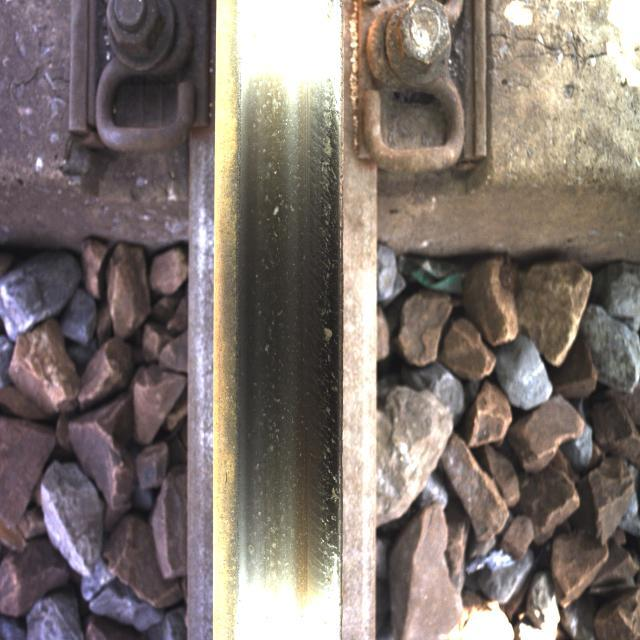scar: (245, 71, 345, 596)
